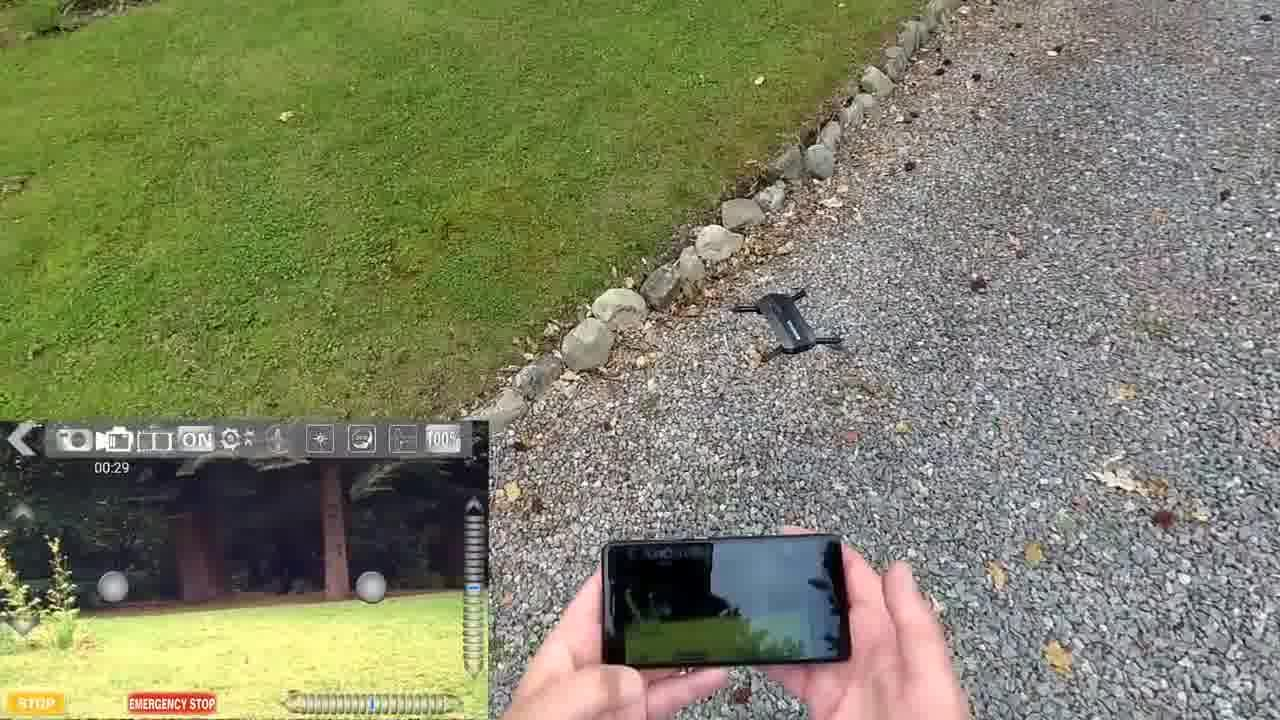drone: (721, 278, 863, 365)
